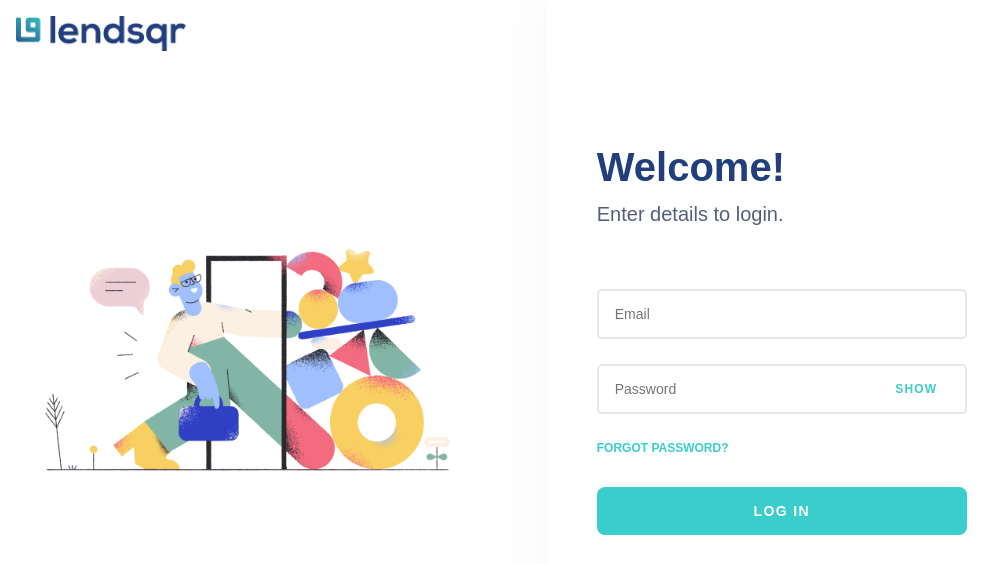
Test case: Login Component › Negative: Shows error when fields are empty
Click the button "LOG IN": (782, 511) [597,487,967,535]
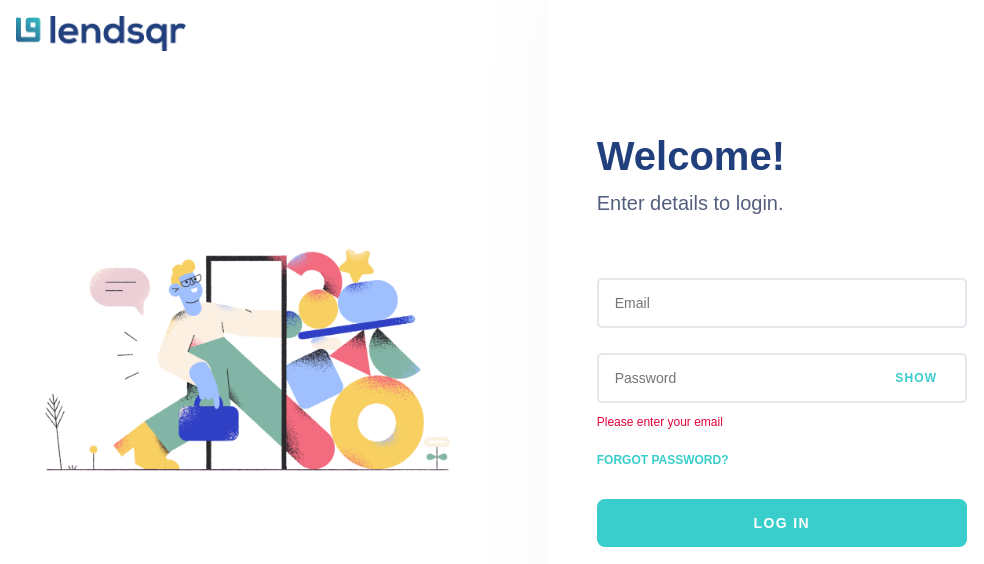
Expected: the text "Please enter your email" is shown, [597,414,723,428]
